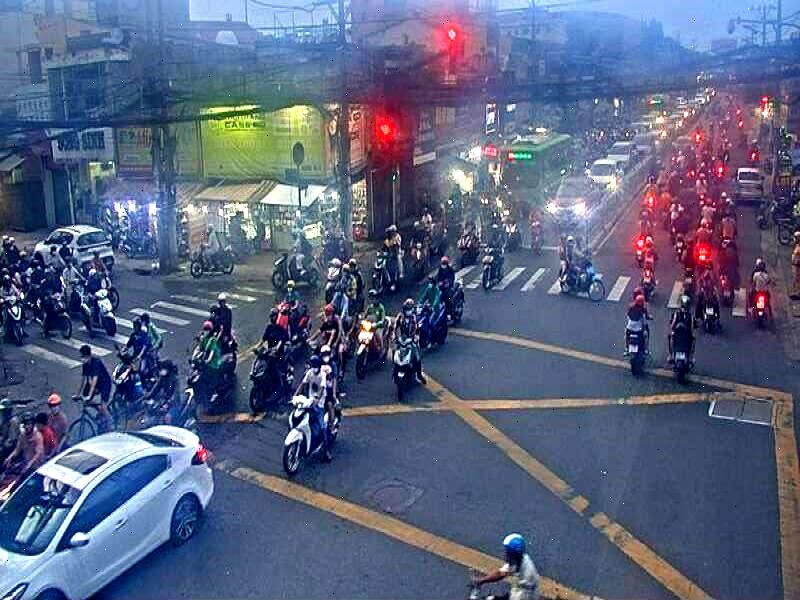car: (0, 428, 217, 599), (734, 169, 765, 198)
motorcycle: (281, 390, 347, 478)
